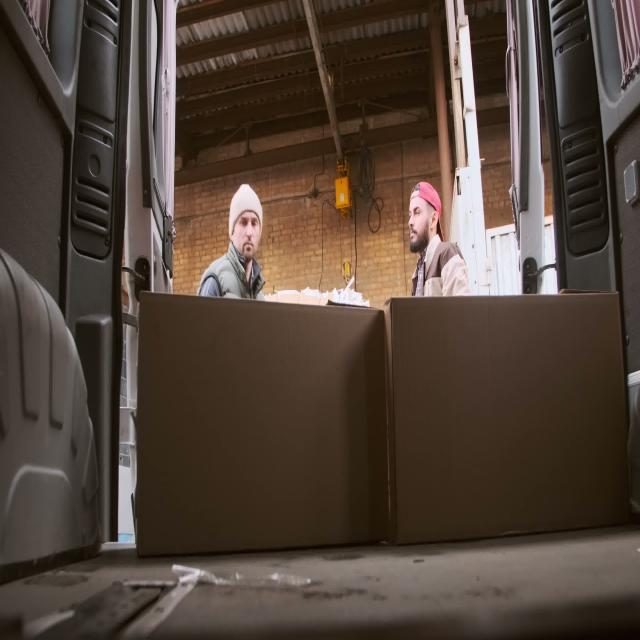counting-the-number-of-boxes: (136, 292, 389, 555), (384, 290, 629, 543)
